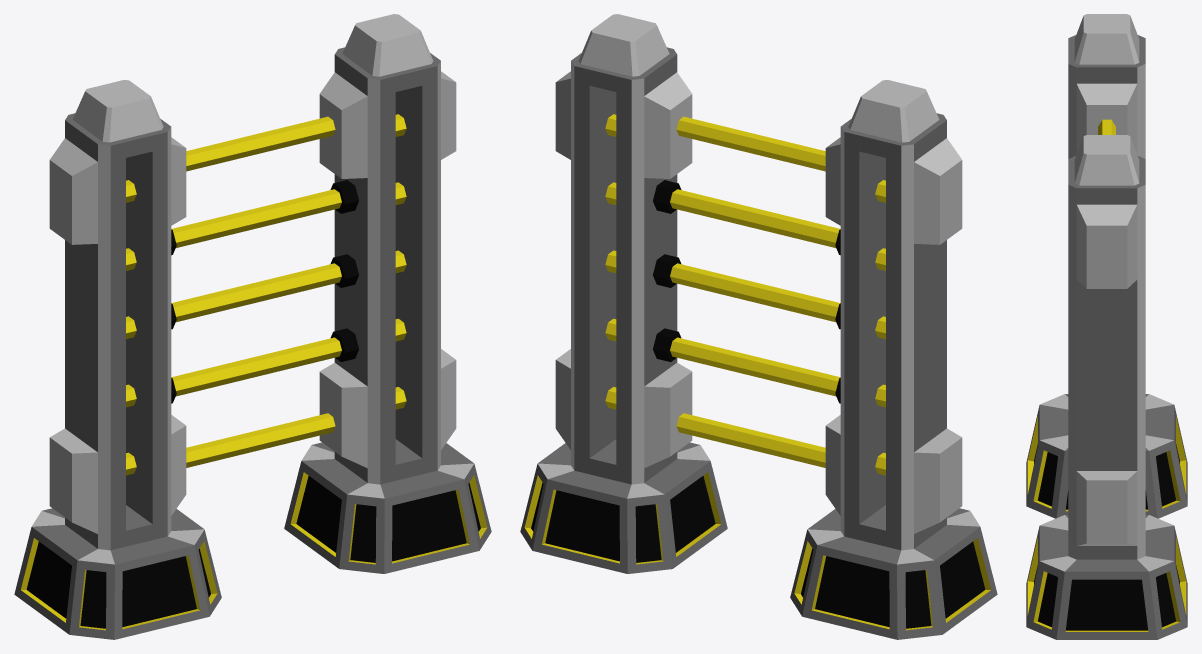
The model's file is ApplyTransformsuz.fbx.
3 renders of one model, left to right at view 1: azimuth 30°, elevation 25°; view 2: azimuth 150°, elevation 25°; view 3: azimuth 270°, elevation 25°, orthographic. The views are drawn at different scales.
Parts seen in each view (by area): view 1: Plane.001; view 2: Plane.001; view 3: Plane.001.
Part boxes in pixels (x1,y1,x2,y2): Plane.001: (14,14,491,639); Plane.001: (520,14,997,639); Plane.001: (1026,14,1187,639).
Size of the model in its own units: 120 by 137 by 43.43.
